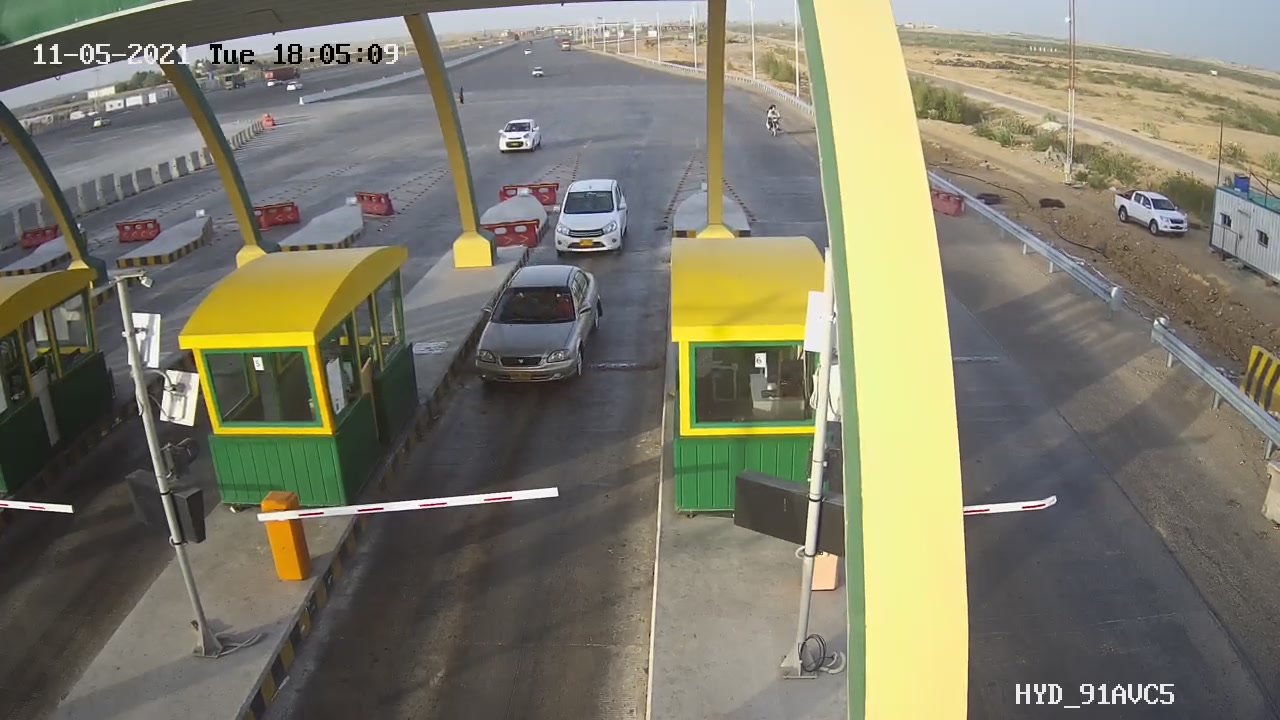F1: (468, 260, 614, 398), (546, 174, 647, 259)
